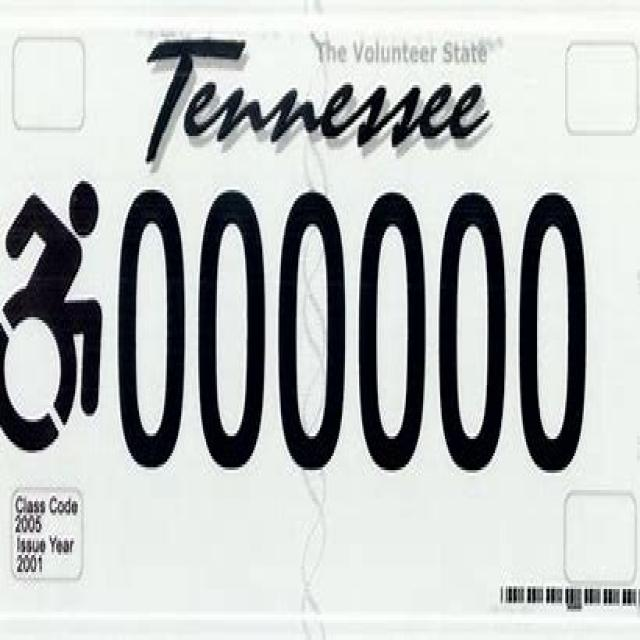car-handicap-placard: (0, 171, 106, 461)
